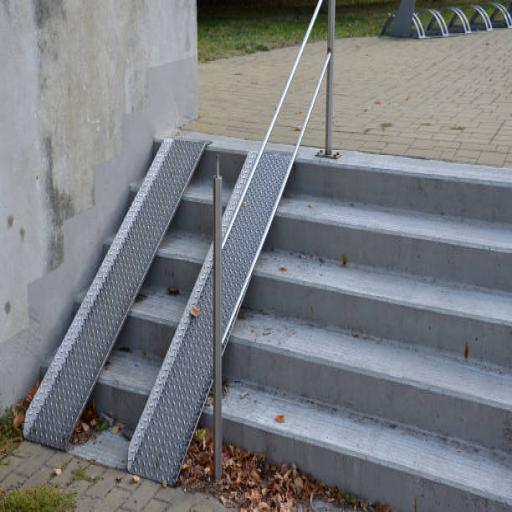ramp: (17, 141, 295, 487)
stairs: (202, 159, 512, 512)
